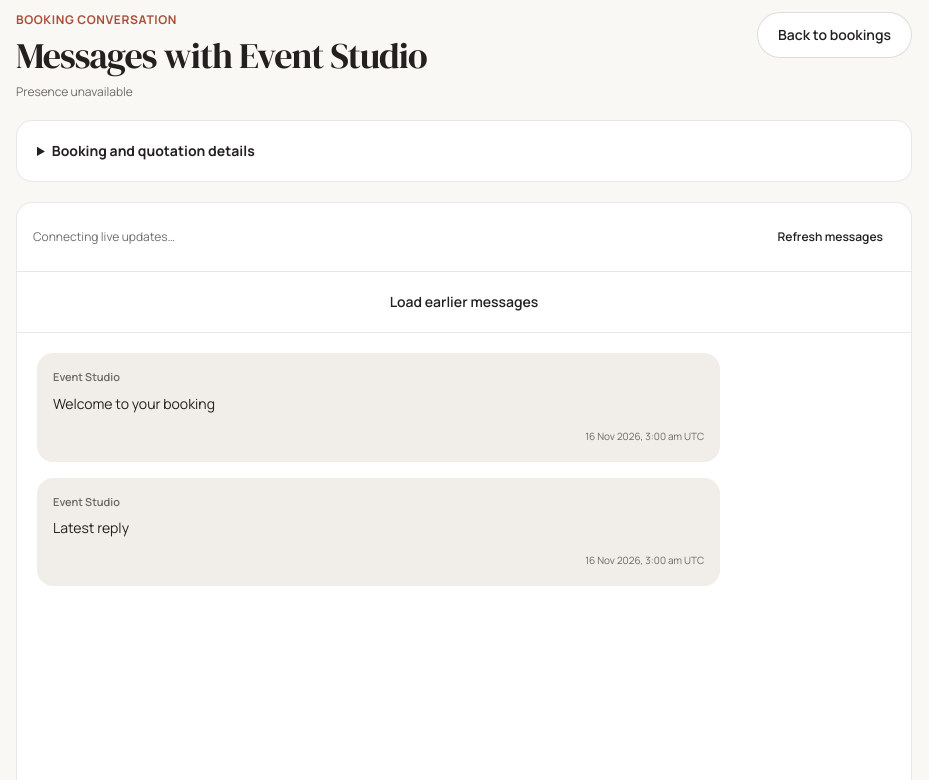
booking conversation › loads older pages with a stable cursor and deduplicates overlapping history
Click the button "Load earlier messages" at (464, 302), box left=370, top=280, right=558, bottom=324
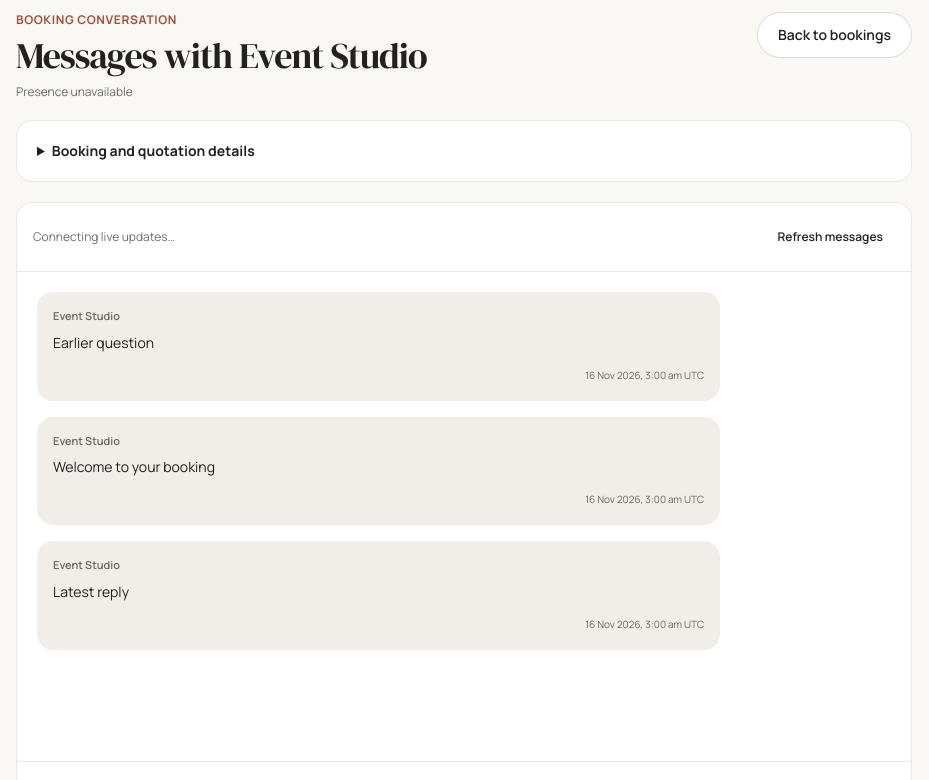
expect the text "Earlier question" is shown: met, box left=53, top=332, right=154, bottom=352
expect the button "Load earlier messages" is gone: met
